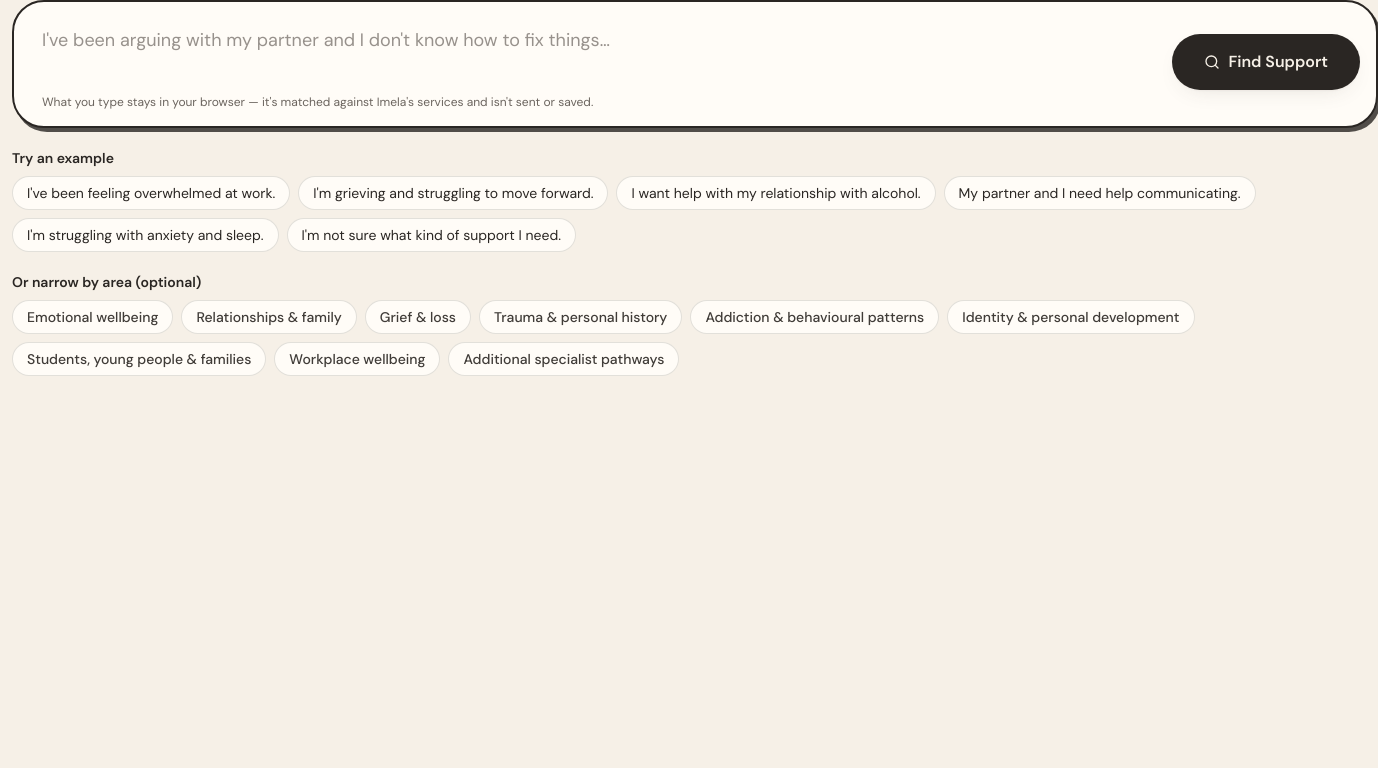
it: NeedFinder › shows grounded options with reasons for an ordinary need
Type "I lost my job and I feel overwhelmed by everything" into the text box named "Describe what you need". click: (595, 54)
box: [30,18,1160,90]
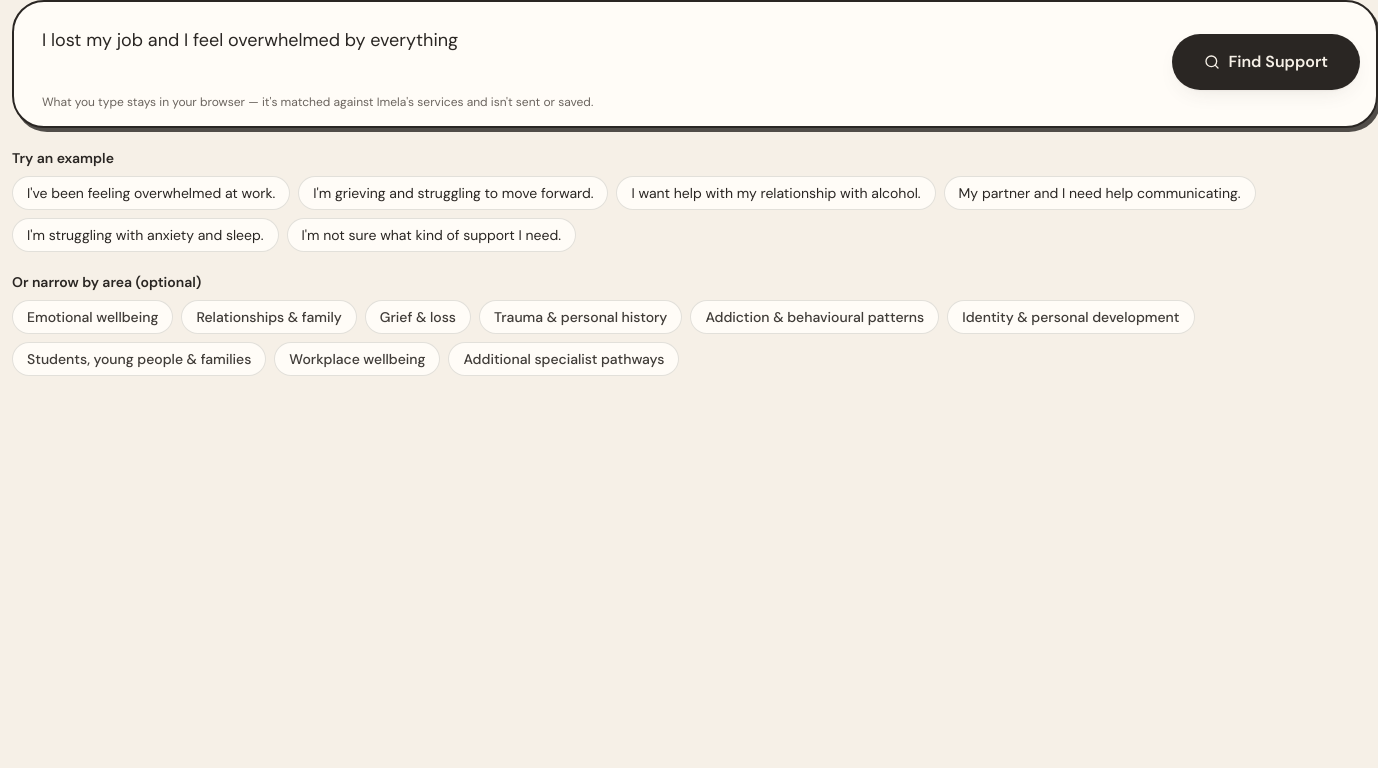
Click the button "Find Support". click: (1266, 62)
box: [1172,34,1360,90]
(page scrolled)
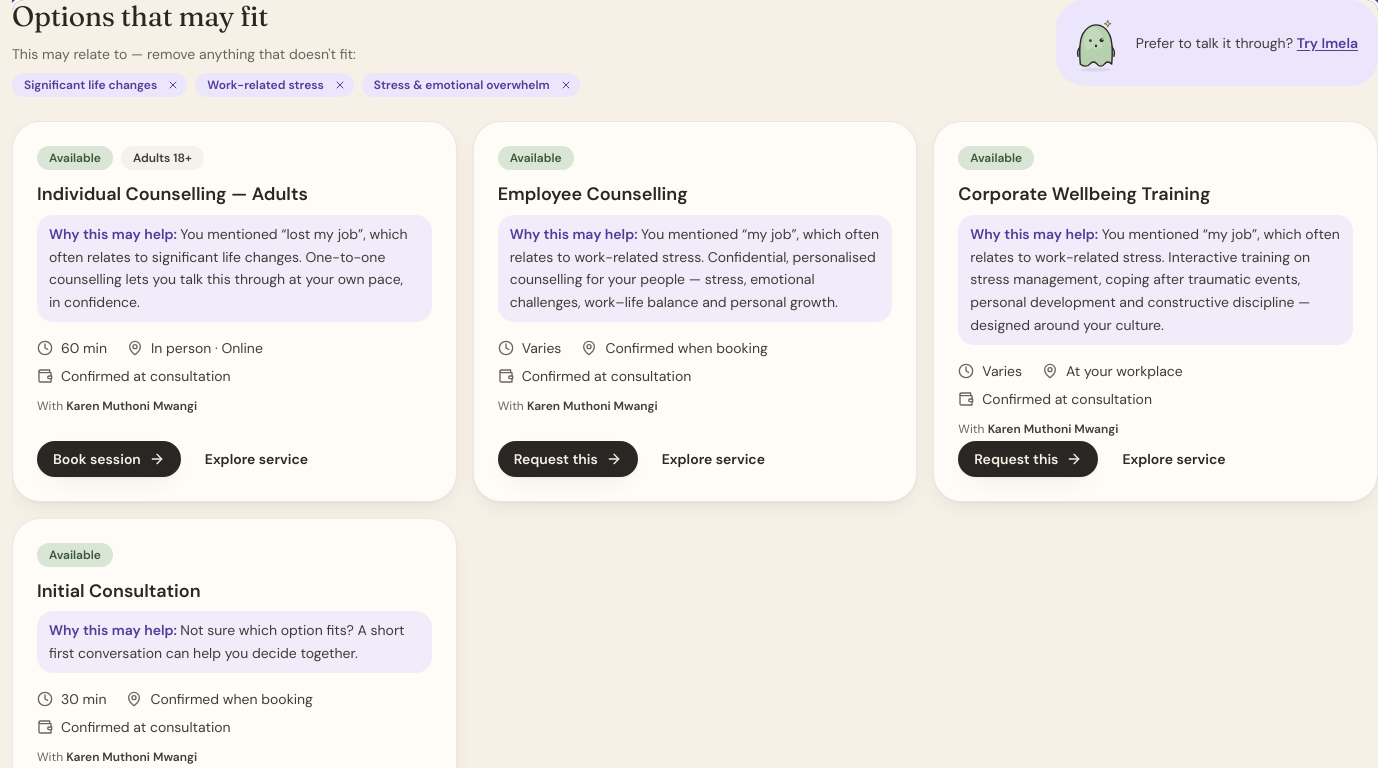
Result: the heading "Options that may fit" is shown at [12,0,268,33]
Result: the text "Why this may help:" below "Individual Counselling — Adults" is shown at [49,225,180,243]
